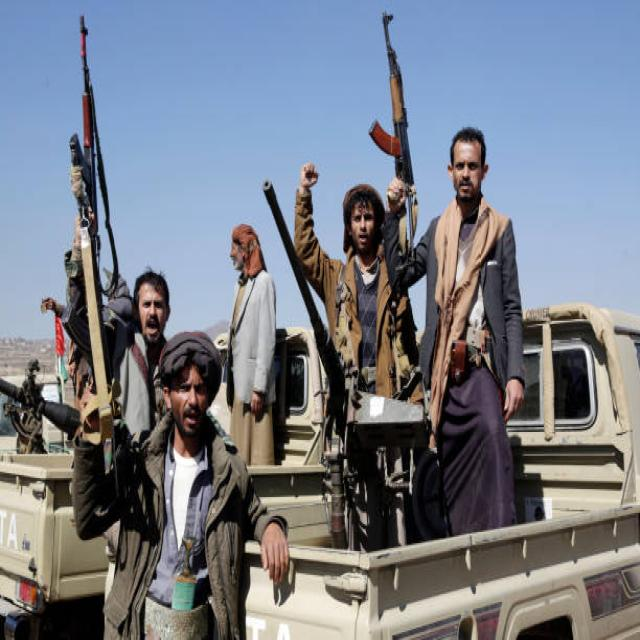LMV: (247, 305, 639, 638)
civilian: (294, 164, 417, 394), (226, 226, 276, 464)
terrorist: (72, 219, 288, 638), (369, 13, 524, 535), (41, 16, 169, 434)
